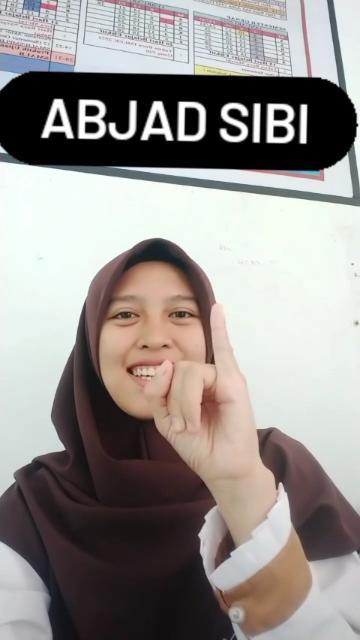I: (146, 302, 254, 480)
